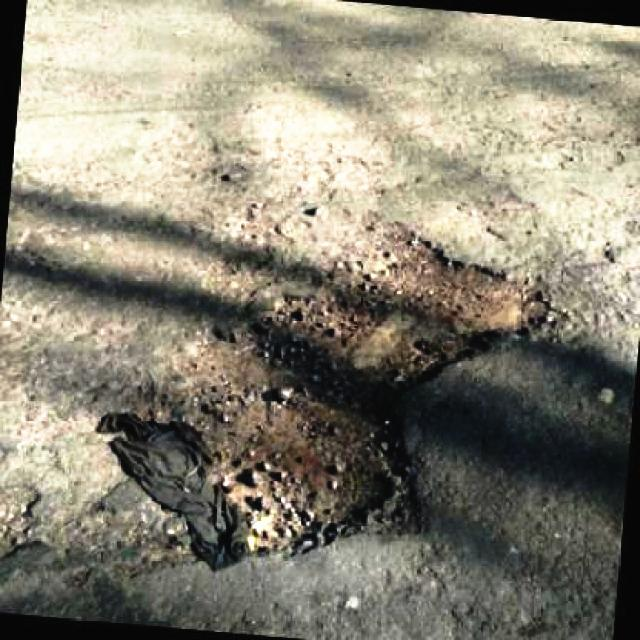pothole: (162, 210, 560, 562), (0, 483, 49, 559)
